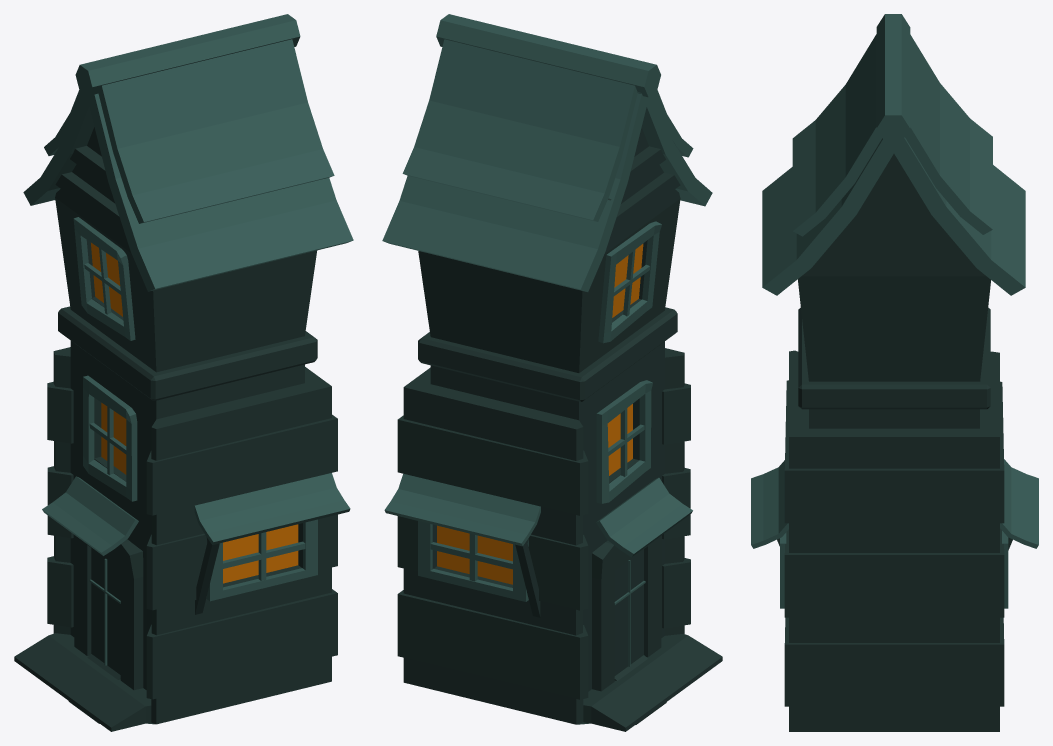
File: Building 2.fbx
3 renders of one model, left to right at view 1: azimuth 30°, elevation 25°; view 2: azimuth 150°, elevation 25°; view 3: azimuth 270°, elevation 25°, orthographic.
Parts seen in each view (by area): view 1: Plane.016, Plane.019, Plane.018, Plane.023, Cylinder, Plane.021, Cube.013, Plane.022, Cube.014, Plane.028, Plane.030, Plane.017 (+4 smaller); view 2: Plane.016, Plane.020, Plane.017, Plane.024, Cylinder, Plane.021, Cube.013, Plane.022, Cube.014, Plane.027, Plane.030, Plane.018 (+5 smaller); view 3: Plane.016, Plane.019, Plane.020, Plane.017, Plane.018, Cylinder, Plane.024, Plane.023.
Boxes of the visible parts, box(x1,y1,x2,y2) form: Plane.016: box(14, 127, 337, 731); Plane.019: box(98, 39, 334, 223); Plane.018: box(87, 93, 353, 291); Plane.023: box(194, 473, 350, 544); Cylinder: box(75, 14, 300, 97); Plane.021: box(74, 535, 143, 690); Cube.013: box(83, 375, 137, 501); Plane.022: box(42, 476, 138, 555); Cube.014: box(73, 217, 135, 340); Plane.028: box(206, 519, 317, 601); Plane.030: box(68, 548, 120, 723); Plane.017: box(23, 93, 94, 205); Plane.016: box(397, 127, 722, 731); Plane.020: box(402, 39, 637, 221); Plane.017: box(382, 93, 646, 291); Plane.024: box(384, 474, 540, 546); Cylinder: box(436, 14, 660, 97); Plane.021: box(592, 536, 661, 691); Cube.013: box(596, 380, 652, 503); Plane.022: box(596, 477, 692, 557); Cube.014: box(598, 221, 661, 343); Plane.027: box(418, 521, 528, 601); Plane.030: box(614, 549, 666, 724); Plane.018: box(637, 92, 712, 206); Plane.016: box(784, 154, 1004, 731); Plane.019: box(792, 34, 882, 236); Plane.020: box(905, 34, 992, 234); Plane.017: box(887, 137, 1025, 295); Plane.018: box(762, 138, 893, 295); Cylinder: box(876, 14, 910, 141); Plane.024: box(1000, 459, 1038, 548); Plane.023: box(751, 460, 788, 548).
Size of the model in its own units: 267 by 718 by 290.
